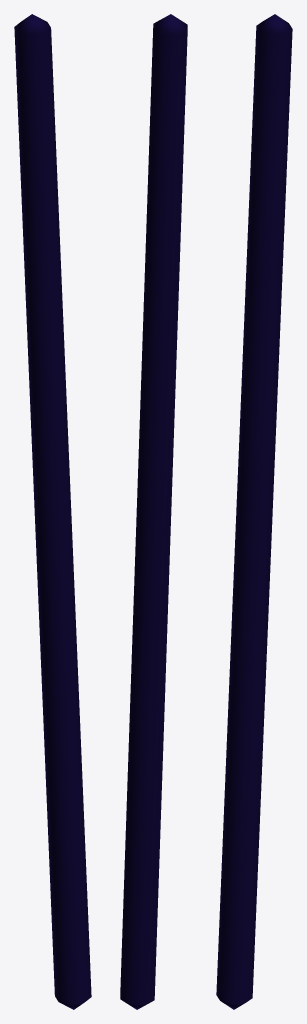
3 renders of one model, left to right at view 1: azimuth 90°, elevation 25°; view 2: azimuth 210°, elevation 25°; view 3: azimuth 270°, elevation 25°, orthographic.
Visible parts, largest first — view 1: brush_Icing_g0_b0; view 2: brush_Icing_g0_b0; view 3: brush_Icing_g0_b0.
Part boxes in pixels (x1,y1,x2,y2): brush_Icing_g0_b0: (14, 14, 91, 1009); brush_Icing_g0_b0: (120, 14, 187, 1009); brush_Icing_g0_b0: (216, 14, 292, 1009).
Size of the model in its own units: 0.3873 by 8.36 by 0.5834.
